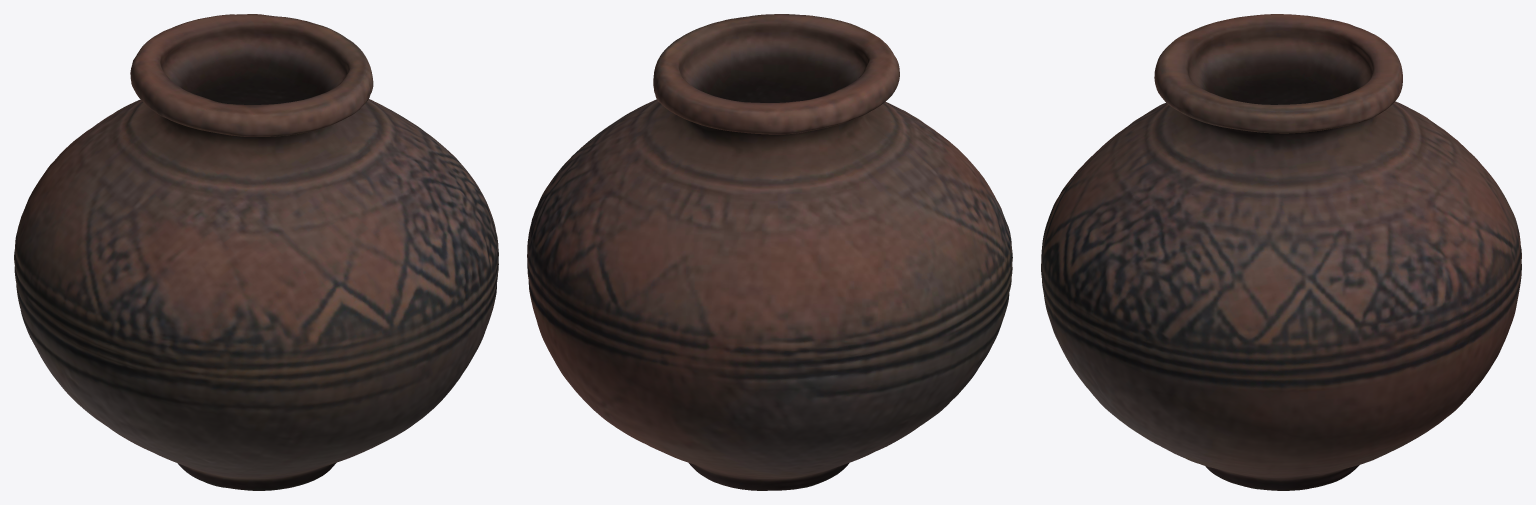
The model's file is sosud.glb.
3 renders of one model, left to right at view 1: azimuth 30°, elevation 25°; view 2: azimuth 150°, elevation 25°; view 3: azimuth 270°, elevation 25°, orthographic.
Parts seen in each view (by area): view 1: world; view 2: world; view 3: world.
Boxes of the visible parts, x1,y1,x2,y2 form: world: (14,14,498,490); world: (527,14,1012,490); world: (1041,14,1521,490).
Bounding box in the file's own units: 0.5858 × 0.5317 × 0.5857.
1 material, 1 textured.
